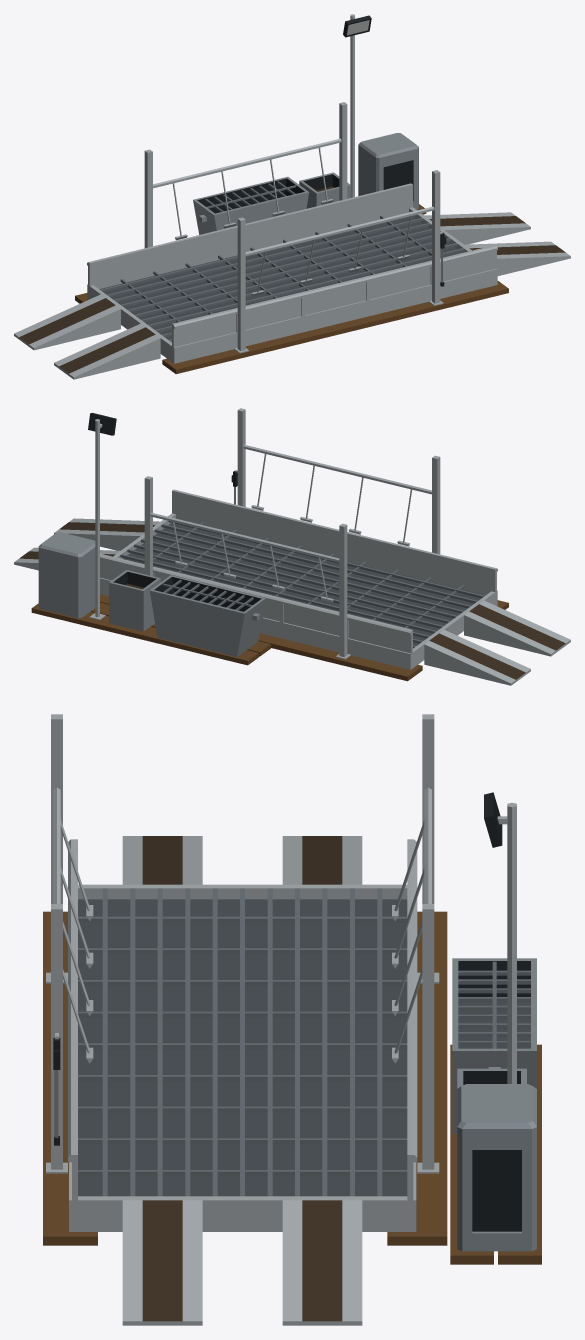
The model's file is wheel-wash-d1ca0f.glb.
3 renders of one model, top to bottom at view 1: azimuth 30°, elevation 25°; view 2: azimuth 150°, elevation 25°; view 3: azimuth 270°, elevation 25°, orthographic. The views are drawn at different scales.
Parts seen in each view (by area): view 1: wash-bath, silt-skip; view 2: wash-bath, silt-skip; view 3: wash-bath, silt-skip.
Part boxes in pixels (x1=…): wash-bath: x1=14, y1=14, x2=570, y2=379; silt-skip: x1=193, y1=176, x2=309, y2=234; wash-bath: x1=14, y1=408, x2=570, y2=685; silt-skip: x1=149, y1=575, x2=265, y2=656; wash-bath: x1=43, y1=714, x2=541, y2=1325; silt-skip: x1=452, y1=958, x2=536, y2=1133.
Bounding box in the file's own units: 11.5 × 4.46 × 5.
